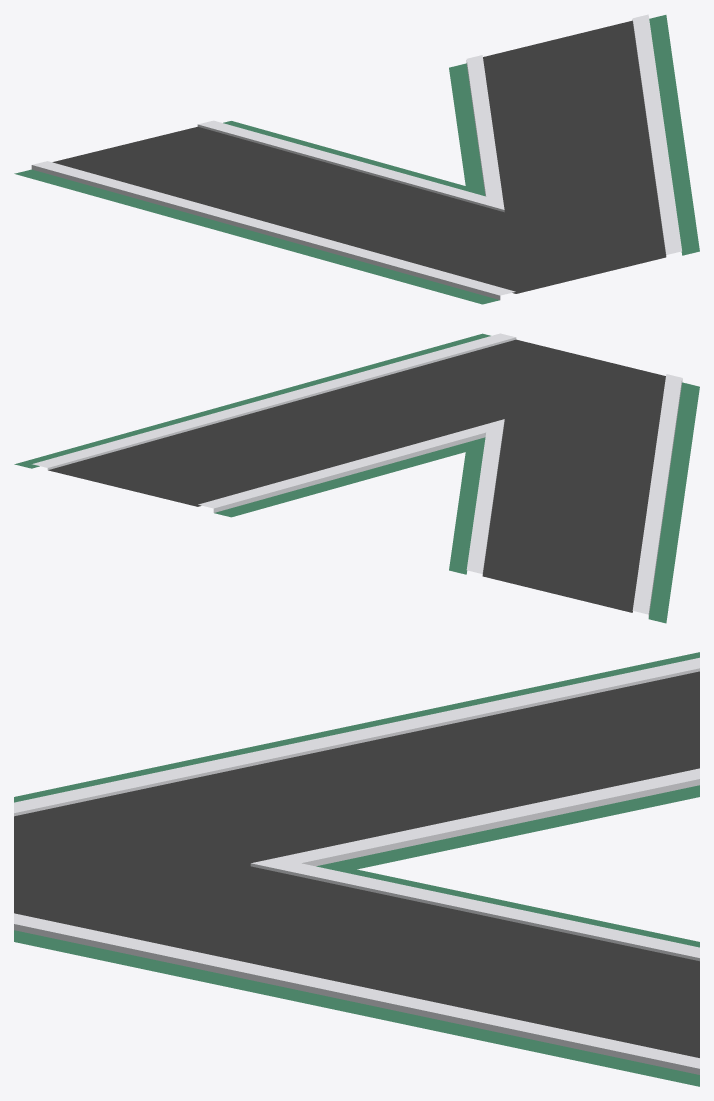
File: roadSplit.glb
3 renders of one model, top to bottom at view 1: azimuth 30°, elevation 25°; view 2: azimuth 150°, elevation 25°; view 3: azimuth 270°, elevation 25°, orthographic. The views are drawn at different scales.
Parts seen in each view (by area): view 1: roadSplit(Clone); view 2: roadSplit(Clone); view 3: roadSplit(Clone).
Part boxes in pixels (<box>): roadSplit(Clone): <box>14,14,699,304</box>; roadSplit(Clone): <box>14,333,699,623</box>; roadSplit(Clone): <box>14,652,699,1086</box>.
Size of the model in its own units: 3 by 0.02 by 2.
